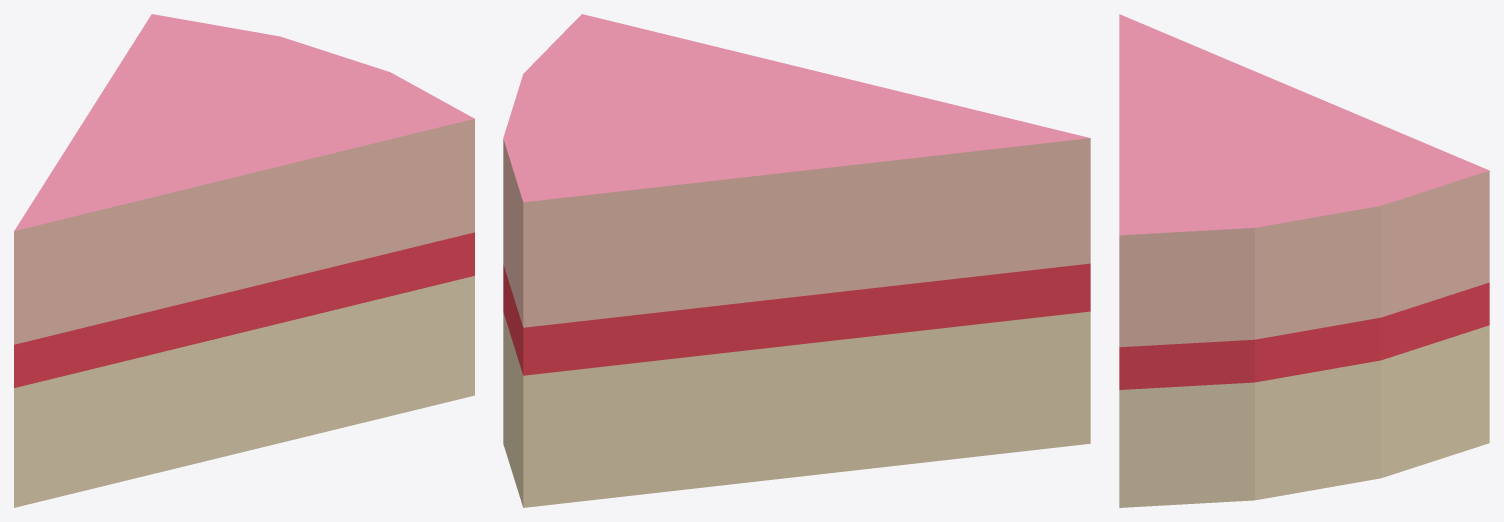
Rendered from cakeSlice.fbx.
3 views of the same model, side by side, from view 1: azimuth 30°, elevation 25°; view 2: azimuth 150°, elevation 25°; view 3: azimuth 270°, elevation 25° (orthographic). The views are drawn at different scales.
Parts seen in each view (by area): view 1: cakeSlice; view 2: cakeSlice; view 3: cakeSlice.
Boxes of the visible parts, bbox=[...] form: cakeSlice: bbox=[14, 14, 474, 507]; cakeSlice: bbox=[503, 14, 1090, 507]; cakeSlice: bbox=[1119, 14, 1489, 507].
Bounding box in the file's own units: 199 × 114 × 141.
1 material, 1 textured.
